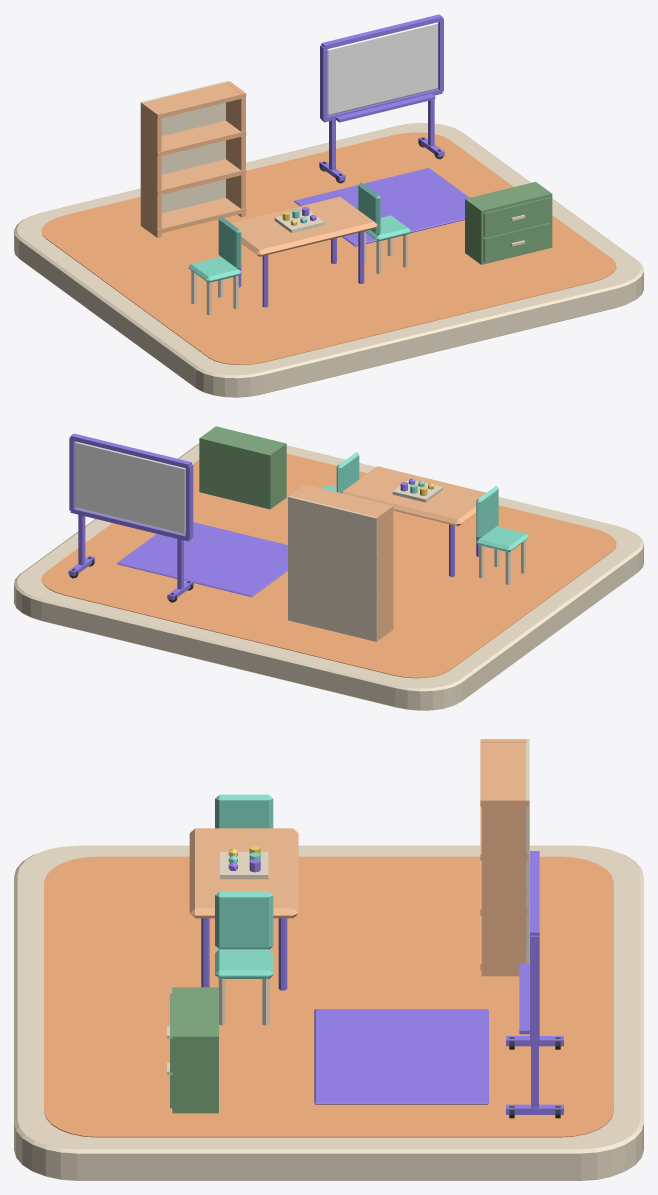
3 views of the same model, one above another, from view 1: azimuth 30°, elevation 25°; view 2: azimuth 150°, elevation 25°; view 3: azimuth 270°, elevation 25° (orthographic). The views are drawn at different scales.
Visible parts, largest first — view 1: COM-02 Floor Surface, COM-01 Rounded Base Direct, Writing surface, Cabinet, Rug, Back, Rounded table top, Side, Side.001, Shelf.003, Shelf.001, Shelf.002 (+8 smaller); view 2: COM-02 Floor Surface, COM-01 Rounded Base Direct, Back, Writing surface, Rug, Cabinet, Rounded table top, Side, Shelf.003, Frame rail.001, Backrest, Seat (+5 smaller); view 3: COM-02 Floor Surface, COM-01 Rounded Base Direct, Rug, Side.001, Rounded table top, Cabinet, Backrest.001, Shelf.003, Backrest, Seat.001, Frame upright.001, Activity board (+5 smaller).
Part boxes in pixels (x1=…): COM-02 Floor Surface: x1=41, y1=132, x2=616, y2=365; COM-01 Rounded Base Direct: x1=14, y1=122, x2=643, y2=397; Writing surface: x1=327, y1=22, x2=438, y2=115; Cabinet: x1=465, y1=181, x2=552, y2=264; Rug: x1=294, y1=168, x2=469, y2=246; Back: x1=140, y1=80, x2=229, y2=226; Rounded table top: x1=231, y1=196, x2=377, y2=256; Side: x1=141, y1=102, x2=161, y2=237; Side.001: x1=226, y1=81, x2=245, y2=217; Shelf.003: x1=141, y1=83, x2=246, y2=118; Shelf.001: x1=141, y1=159, x2=246, y2=195; Shelf.002: x1=141, y1=120, x2=246, y2=156; COM-02 Floor Surface: x1=41, y1=453, x2=616, y2=678; COM-01 Rounded Base Direct: x1=14, y1=444, x2=643, y2=710; Back: x1=288, y1=496, x2=377, y2=641; Writing surface: x1=74, y1=441, x2=185, y2=534; Rug: x1=117, y1=522, x2=287, y2=596; Cabinet: x1=199, y1=426, x2=286, y2=509; Rounded table top: x1=341, y1=466, x2=485, y2=526; Side: x1=373, y1=505, x2=393, y2=640; Shelf.003: x1=294, y1=484, x2=393, y2=522; Frame rail.001: x1=70, y1=433, x2=191, y2=468; Backrest: x1=476, y1=486, x2=498, y2=538; Seat: x1=476, y1=526, x2=528, y2=552; COM-02 Floor Surface: x1=44, y1=856, x2=613, y2=1137; COM-01 Rounded Base Direct: x1=14, y1=845, x2=643, y2=1180; Rug: x1=314, y1=1009, x2=488, y2=1104; Side.001: x1=481, y1=797, x2=527, y2=976; Rounded table top: x1=189, y1=828, x2=298, y2=918; Cabinet: x1=167, y1=987, x2=218, y2=1113; Backrest.001: x1=215, y1=891, x2=273, y2=949; Shelf.003: x1=480, y1=739, x2=528, y2=806; Backrest: x1=215, y1=794, x2=273, y2=828; Seat.001: x1=215, y1=949, x2=273, y2=978; Frame upright.001: x1=530, y1=935, x2=539, y2=1039; Activity board: x1=220, y1=852, x2=268, y2=879.
Bounding box in the file's own units: 6 × 2.04 × 5.2.
Materials: 1 (1 with a texture image).
